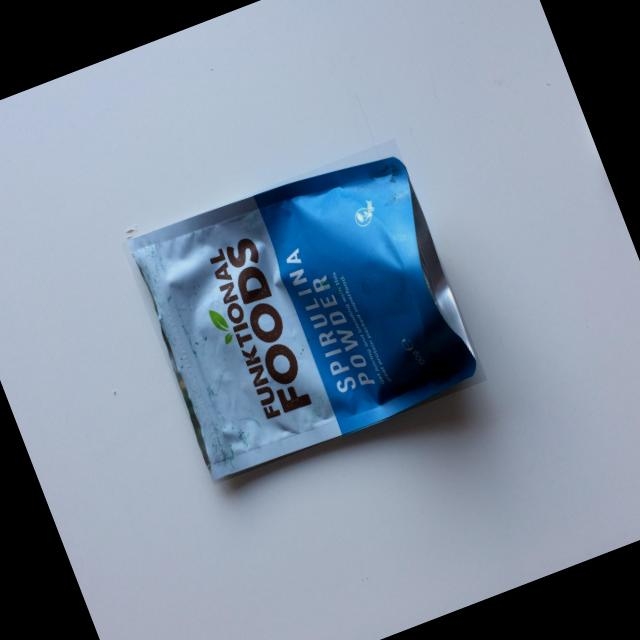Other plastic: (130, 157, 477, 481)
